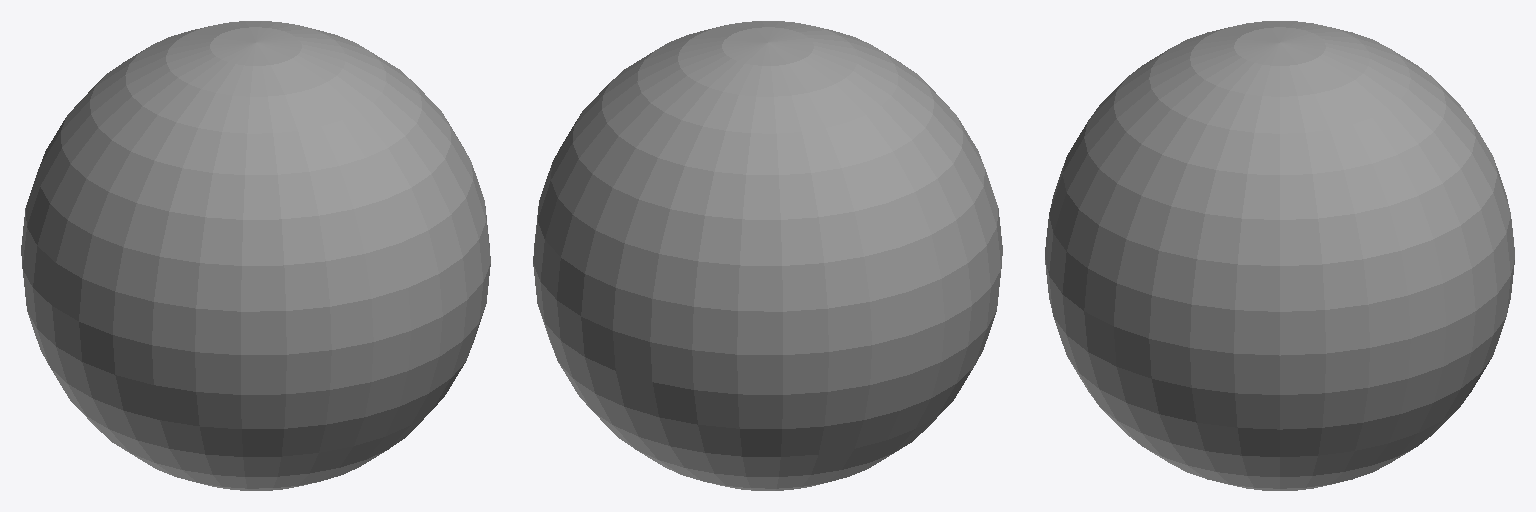
File: sun.obj
3 renders of one model, left to right at view 1: azimuth 30°, elevation 25°; view 2: azimuth 150°, elevation 25°; view 3: azimuth 270°, elevation 25°, orthographic.
Parts seen in each view (by area): view 1: Sphere; view 2: Sphere; view 3: Sphere.
Boxes of the visible parts, x1,y1,x2,y2 form: Sphere: [21, 21, 490, 490]; Sphere: [533, 21, 1002, 490]; Sphere: [1045, 21, 1514, 490].
Bounding box in the file's own units: 2 × 2 × 2.